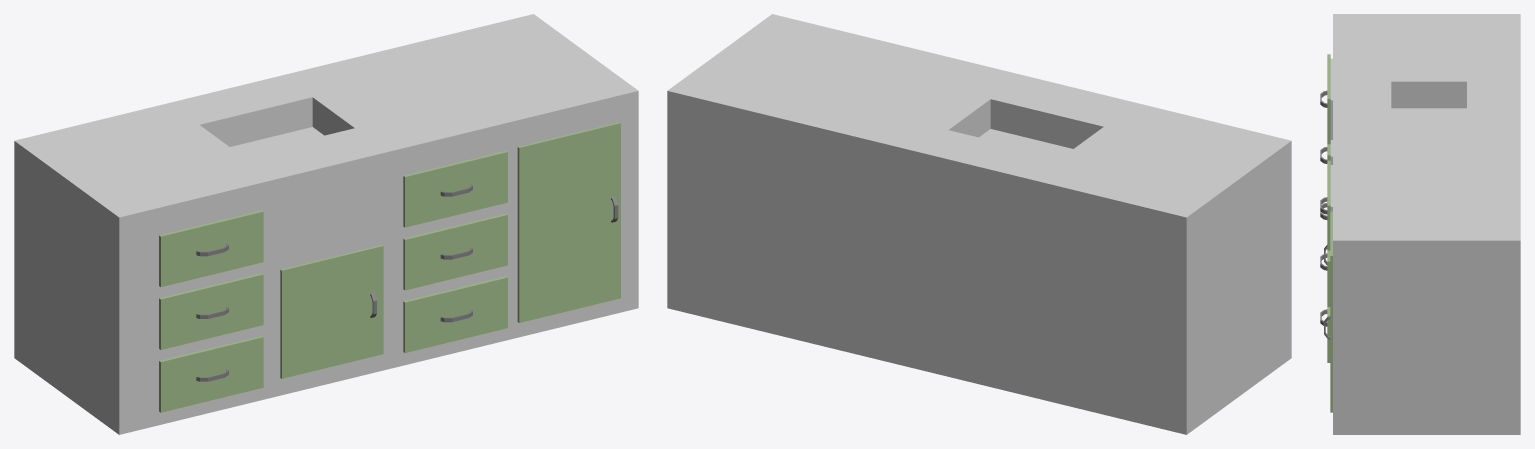
The model's file is rakovina.fbx.
The picture shows the model from 3 angles, left to right: view 1: azimuth 30°, elevation 25°; view 2: azimuth 150°, elevation 25°; view 3: azimuth 270°, elevation 25°; orthographic projection. The views are drawn at different scales.
Parts seen in each view (by area): view 1: Cube; view 2: Cube; view 3: Cube.
Boxes of the visible parts, bbox=[...] form: Cube: bbox=[14, 14, 638, 434]; Cube: bbox=[667, 14, 1291, 434]; Cube: bbox=[1320, 14, 1520, 434].
Bounding box in the file's own units: 200 × 80 × 74.78.
